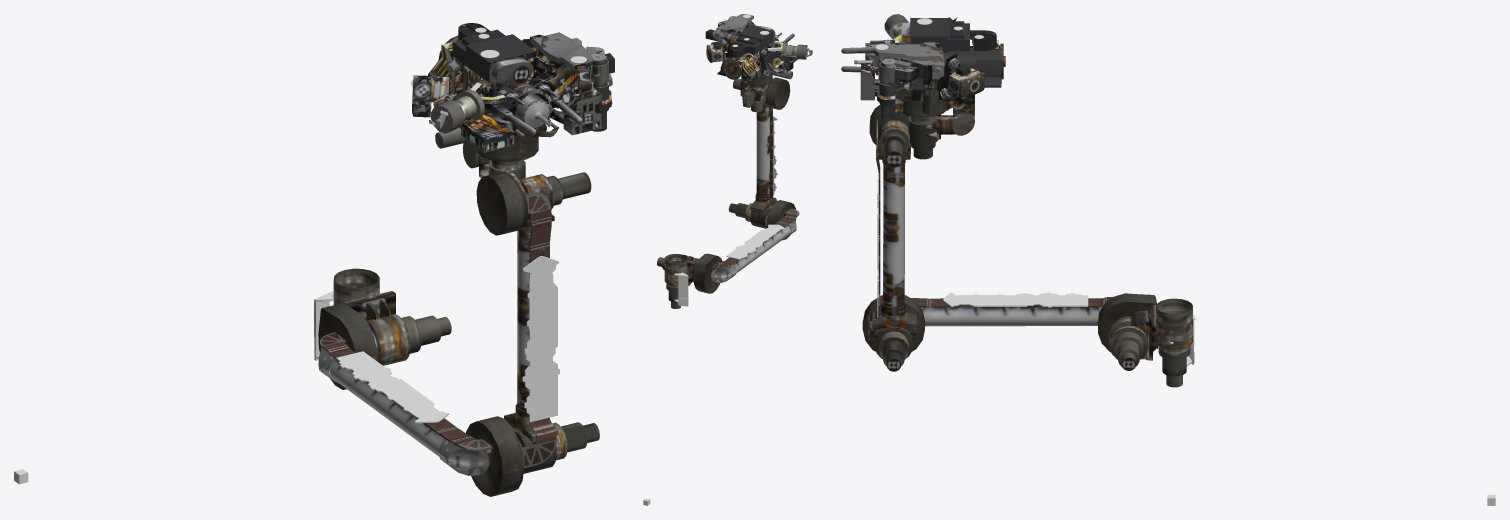
Rendered from curiosity_clean_robotic_arm.glb.
3 renders of one model, left to right at view 1: azimuth 30°, elevation 25°; view 2: azimuth 150°, elevation 25°; view 3: azimuth 270°, elevation 25°, orthographic. The views are drawn at different scales.
Visible parts, largest first — view 1: showme_arm_03.001, showme_arm_02.001, showme_arm_01.001, showme_arm_05_head.001, showme_Drill, showme_CHIMERA, showme_arm_04.001, showme_Dust Removal Tool, showme_MAHLI, showme_bit_01.001; view 2: showme_arm_02.001, showme_arm_03.001, showme_arm_01.001, showme_Drill, showme_arm_05_head.001, showme_arm_04.001, showme_CHIMERA, showme_MAHLI, showme_MAHLI_cal_target, showme_Dust Removal Tool, showme_APXS; view 3: showme_arm_02.001, showme_arm_03.001, showme_arm_01.001, showme_CHIMERA, showme_Drill, showme_arm_04.001, showme_arm_05_head.001, showme_APXS.
Part boxes in pixels (left/top/right/bottom): showme_arm_03.001: left=476, top=170, right=591, bottom=467; showme_arm_02.001: left=318, top=332, right=599, bottom=496; showme_arm_01.001: left=318, top=268, right=451, bottom=389; showme_arm_05_head.001: left=428, top=38, right=601, bottom=152; showme_Drill: left=438, top=23, right=582, bottom=137; showme_CHIMERA: left=530, top=32, right=614, bottom=131; showme_arm_04.001: left=435, top=124, right=558, bottom=179; showme_Dust Removal Tool: left=429, top=89, right=484, bottom=133; showme_MAHLI: left=412, top=75, right=450, bottom=117; showme_bit_01.001: left=516, top=93, right=551, bottom=129; showme_arm_02.001: left=711, top=200, right=799, bottom=282; showme_arm_03.001: left=733, top=77, right=790, bottom=219; showme_arm_01.001: left=657, top=253, right=722, bottom=308; showme_Drill: left=722, top=25, right=794, bottom=79; showme_arm_05_head.001: left=708, top=21, right=797, bottom=83; showme_arm_04.001: left=740, top=61, right=792, bottom=112; showme_CHIMERA: left=705, top=14, right=753, bottom=43; showme_MAHLI: left=764, top=51, right=791, bottom=77; showme_MAHLI_cal_target: left=674, top=272, right=688, bottom=306; showme_Dust Removal Tool: left=782, top=42, right=812, bottom=59; showme_APXS: left=706, top=43, right=722, bottom=62; showme_arm_02.001: left=862, top=292, right=1112, bottom=371; showme_arm_03.001: left=868, top=104, right=916, bottom=341; showme_arm_01.001: left=1098, top=293, right=1192, bottom=387; showme_CHIMERA: left=874, top=42, right=944, bottom=120; showme_Drill: left=841, top=18, right=1005, bottom=80; showme_arm_04.001: left=902, top=78, right=974, bottom=159; showme_arm_05_head.001: left=860, top=34, right=1001, bottom=114; showme_APXS: left=949, top=64, right=984, bottom=98.
Bounding box in the file's own units: 0.1588 × 0.4152 × 0.4659.
5 materials, 3 textured.
